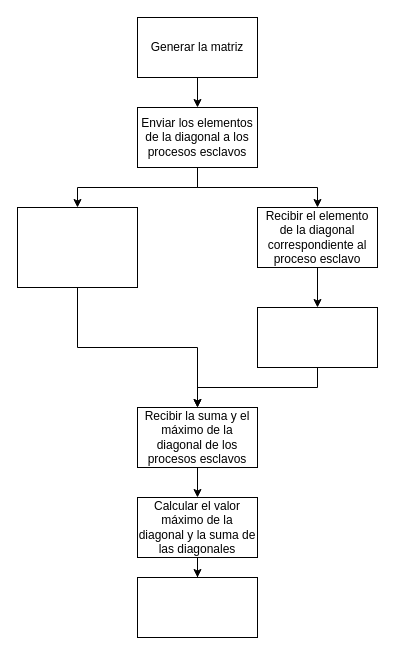
Image size: 395x655. Some labels were removed from this diagram. The shapes that lost their labels are listed below. From the top down, each one's centre as x and y in pixels, then its label:
(x=77, y=247): Calcular la suma y el máximo de la diagonal y enviarlos a los procesos esclavos
(x=317, y=337): Enviar la suma y el máximo de la diagonal al proceso maestro
(x=197, y=607): Imprimir los resultados
